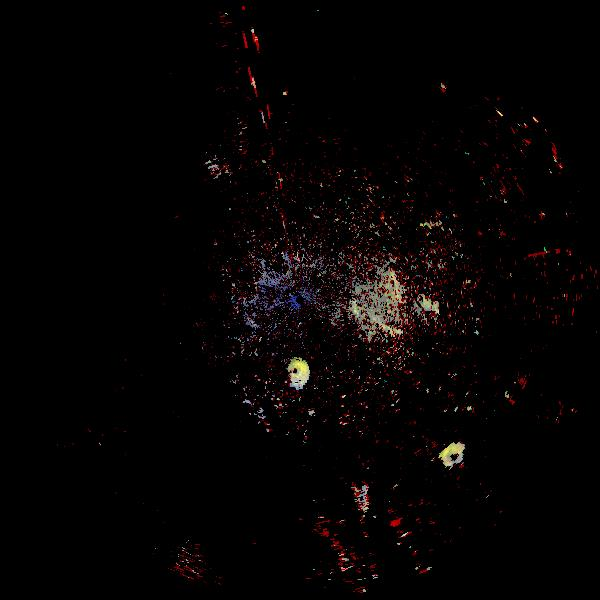roost: (436, 438, 475, 477), (282, 356, 318, 392)
